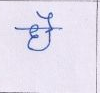ai_matra: (37, 10, 57, 27)
